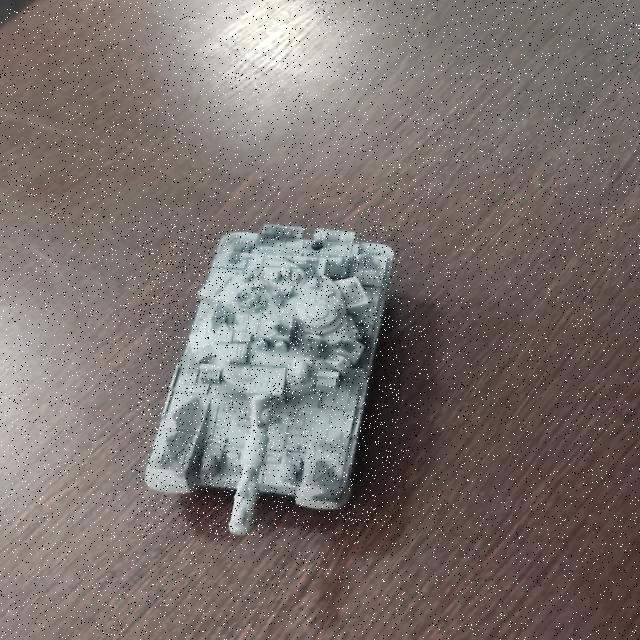MIL_MBT: (137, 225, 401, 536)
